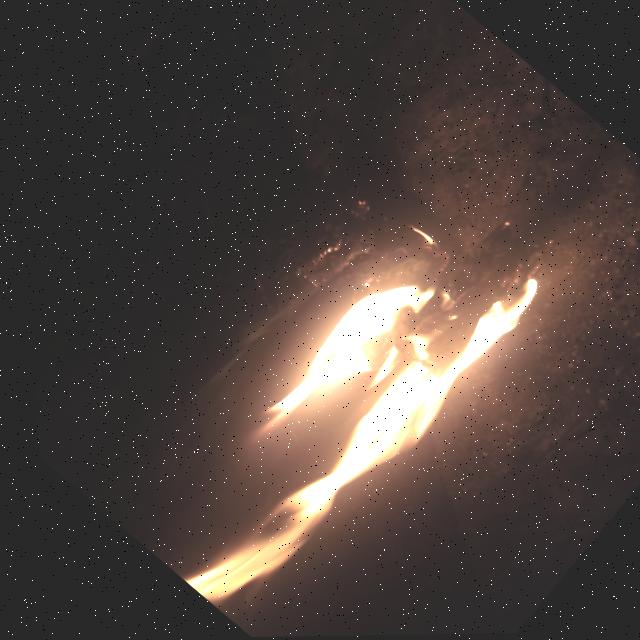Fire: (111, 192, 570, 639)
